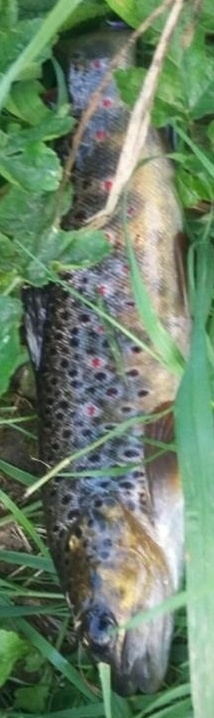Salmo trutta subsp. fario: (20, 20, 194, 698)
